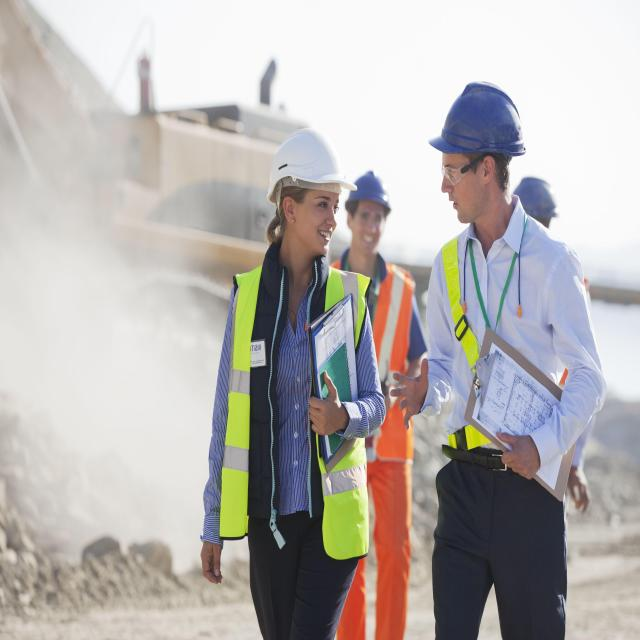Reflective-Jacket: (212, 263, 374, 566), (342, 254, 417, 465)
Safety-Helmet: (426, 78, 530, 162), (264, 123, 356, 203), (345, 165, 398, 217), (515, 172, 563, 228)
